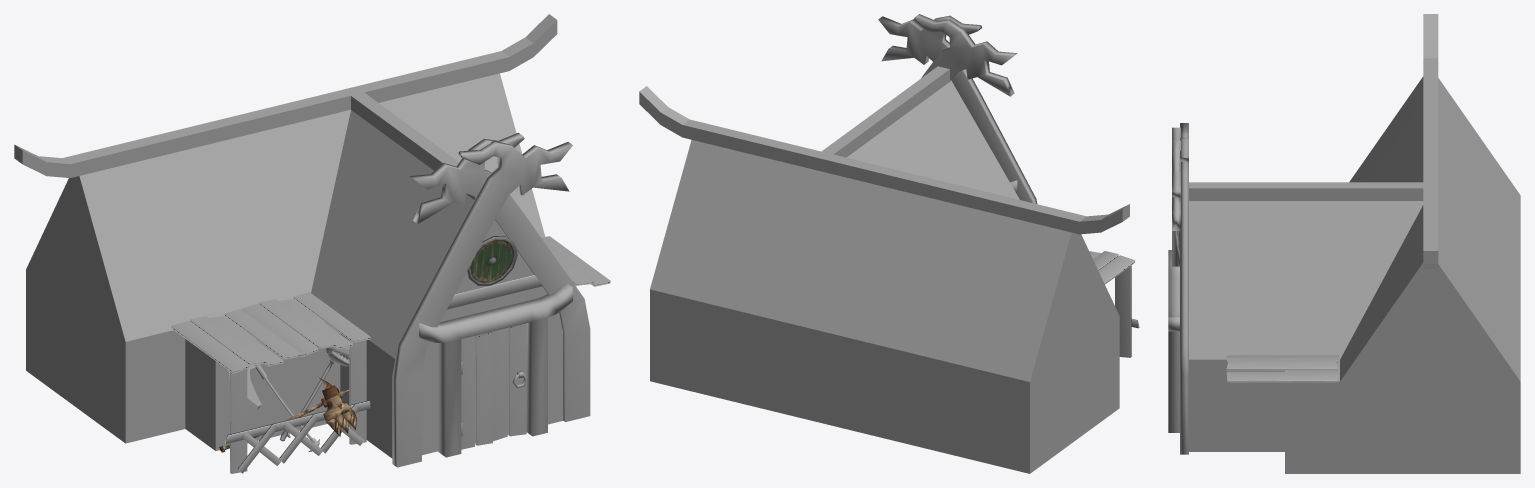
Rendered from House.fbx.
3 renders of one model, left to right at view 1: azimuth 30°, elevation 25°; view 2: azimuth 150°, elevation 25°; view 3: azimuth 270°, elevation 25°, orthographic. The views are drawn at different scales.
Visible parts, largest first — view 1: pCube1, pCube4, pCube3, pCube2, pCube6, pCube8, pCube10, ValderBelt, pCube9, pCube26, pCube7, pCube27 (+14 smaller); view 2: pCube1, pCube4, pCube3, pCube2, pCube26, pCube21; view 3: pCube1, pCube4, pCube2, pCube6, pCube22, pCube24, pCube3, pCube25.
Boxes of the visible parts, x1,y1,x2,y2 form: pCube1: (26,73,576,458); pCube4: (14,14,557,199); pCube3: (392,141,572,467); pCube2: (410,132,590,421); pCube6: (419,282,572,457); pCube8: (475,332,492,445); pCube10: (508,323,526,436); ValderBelt: (467,236,517,285); pCube9: (492,328,507,441); pCube26: (230,369,247,473); pCube7: (461,336,474,449); pCube27: (349,340,366,444); pCube1: (650,81,1119,473); pCube4: (639,66,1129,234); pCube3: (878,15,1037,203); pCube2: (914,14,1017,96); pCube26: (1115,265,1131,357); pCube21: (1098,255,1135,284); pCube1: (1189,76,1520,473); pCube4: (1189,14,1438,268); pCube2: (1180,123,1188,454); pCube6: (1168,250,1179,432); pCube22: (1226,371,1338,382); pCube24: (1226,360,1337,370); pCube3: (1172,127,1180,266); pCube25: (1226,355,1338,363).
Size of the model in its own units: 21.53 by 11.51 by 13.53.
